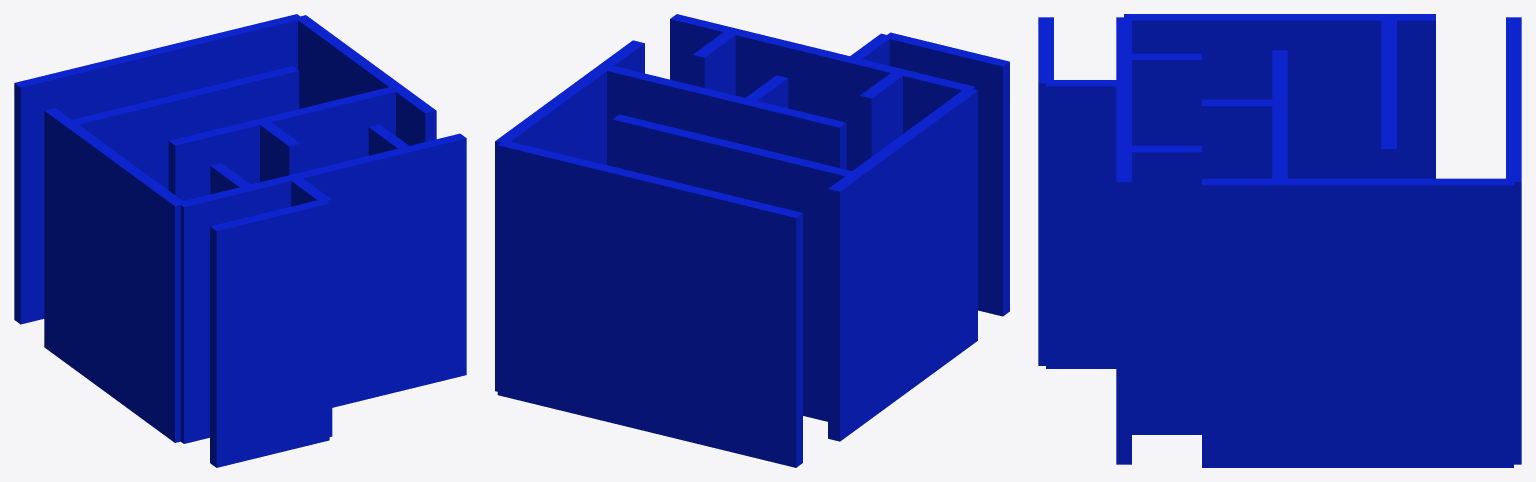
The model's file is Maze 1 Walls.fbx.
3 renders of one model, left to right at view 1: azimuth 30°, elevation 25°; view 2: azimuth 150°, elevation 25°; view 3: azimuth 270°, elevation 25°, orthographic. The views are drawn at different scales.
Parts seen in each view (by area): view 1: Cube.082, Cube.021, Cube.022, Cube.086, Cube.010, Cube, Cube.009, Cube.018, Cube.007, Cube.008, Cube.020, Cube.012 (+20 smaller); view 2: Cube, Cube.002, Cube.005, Cube.004, Cube.003, Cube.007, Cube.082, Cube.009, Cube.008, Cube.010, Cube.011, Cube.020 (+20 smaller); view 3: Cube.027, Cube.028, Cube.029, Cube.026, Cube.096, Cube.030, Cube.008, Cube.007, Cube.015, Cube.009, Cube.025, Cube.022 (+19 smaller).
Part boxes in pixels (left/top/right/bottom): Cube.082: left=210, top=212, right=273, bottom=467; Cube.021: left=347, top=148, right=410, bottom=402; Cube.022: left=405, top=133, right=466, bottom=388; Cube.086: left=267, top=199, right=329, bottom=453; Cube.010: left=142, top=179, right=185, bottom=442; Cube: left=14, top=69, right=77, bottom=324; Cube.009: left=109, top=156, right=153, bottom=418; Cube.018: left=180, top=189, right=240, bottom=443; Cube.007: left=44, top=108, right=87, bottom=370; Cube.008: left=77, top=132, right=120, bottom=394; Cube.020: left=291, top=161, right=353, bottom=407; Cube.012: left=123, top=93, right=185, bottom=190; Cube: left=736, top=198, right=802, bottom=467; Cube.002: left=676, top=184, right=742, bottom=453; Cube.005: left=497, top=140, right=563, bottom=409; Cube.004: left=557, top=154, right=623, bottom=423; Cube.003: left=617, top=169, right=682, bottom=438; Cube.007: left=828, top=163, right=874, bottom=441; Cube.082: left=943, top=47, right=1009, bottom=316; Cube.009: left=897, top=113, right=943, bottom=390; Cube.008: left=863, top=138, right=908, bottom=415; Cube.010: left=932, top=88, right=977, bottom=365; Cube.011: left=791, top=158, right=851, bottom=421; Cube.020: left=789, top=43, right=852, bottom=170; Cube.027: left=1358, top=178, right=1435, bottom=467; Cube.028: left=1280, top=178, right=1357, bottom=467; Cube.029: left=1202, top=178, right=1279, bottom=467; Cube.026: left=1436, top=178, right=1513, bottom=467; Cube.096: left=1046, top=80, right=1123, bottom=368; Cube.030: left=1124, top=145, right=1201, bottom=434; Cube.008: left=1280, top=14, right=1357, bottom=178; Cube.007: left=1358, top=14, right=1435, bottom=178; Cube.015: left=1124, top=53, right=1201, bottom=145; Cube.009: left=1202, top=14, right=1279, bottom=99; Cube.025: left=1202, top=99, right=1275, bottom=178; Cube.022: left=1116, top=149, right=1131, bottom=464.
Size of the model in its own units: 260 by 200 by 310.
